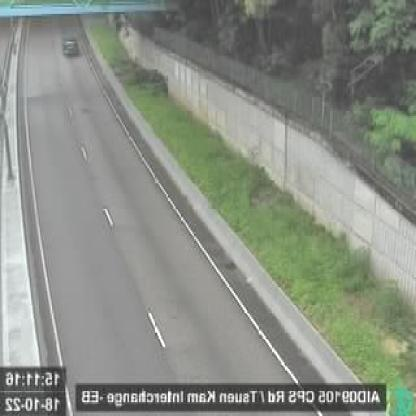Car: (62, 38, 80, 58)
